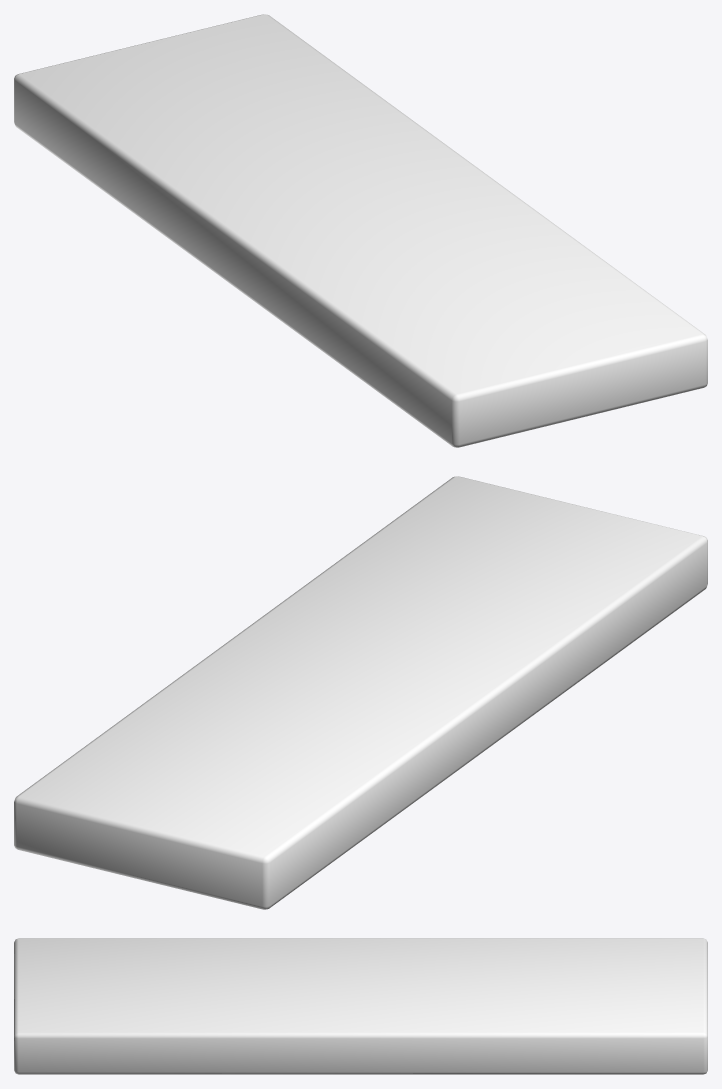
Rendered from long_platform.glb.
3 views of the same model, one above another, from view 1: azimuth 30°, elevation 25°; view 2: azimuth 150°, elevation 25°; view 3: azimuth 270°, elevation 25° (orthographic). The views are drawn at different scales.
Parts seen in each view (by area): view 1: long_platform; view 2: long_platform; view 3: long_platform.
Part boxes in pixels (x1=…): long_platform: x1=14, y1=14, x2=707, y2=447; long_platform: x1=14, y1=476, x2=707, y2=909; long_platform: x1=14, y1=938, x2=707, y2=1074.
Size of the model in its own units: 5 by 1 by 15.
Materials: 1 (1 with a texture image).
